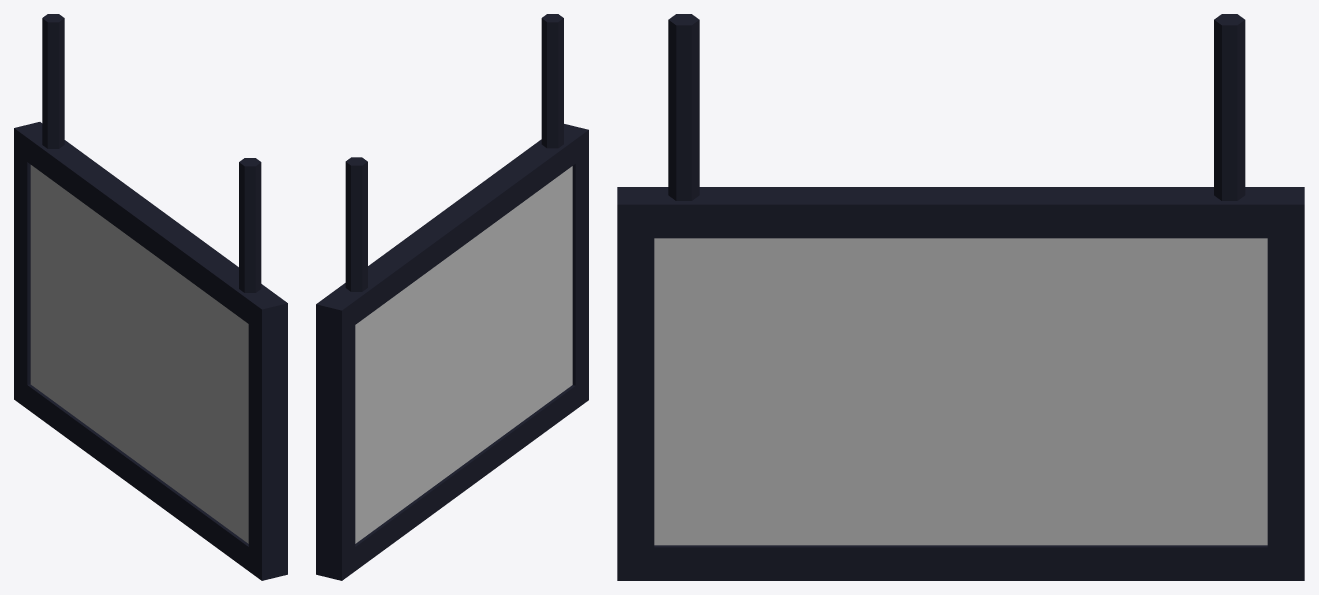
Rendered from Sign_Hanging_04.fbx.
3 views of the same model, side by side, from view 1: azimuth 30°, elevation 25°; view 2: azimuth 150°, elevation 25°; view 3: azimuth 270°, elevation 25° (orthographic). The views are drawn at different scales.
Visible parts, largest first — view 1: Cube.533; view 2: Cube.533; view 3: Cube.533.
Boxes of the visible parts, x1,y1,x2,y2 form: Cube.533: (14, 14, 287, 580); Cube.533: (316, 14, 588, 580); Cube.533: (617, 14, 1304, 580).
Size of the model in its own units: 4.21 by 61.6 by 69.52.
